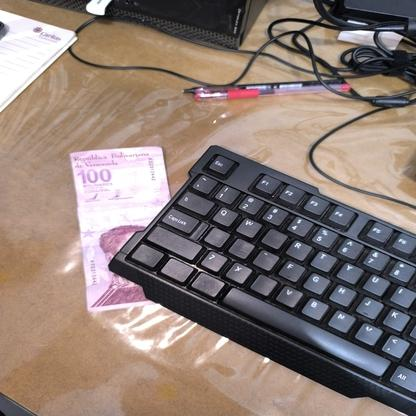one_hundred-front-vef: (70, 146, 172, 313)
